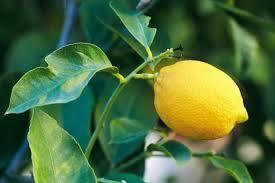lemon: (154, 60, 249, 140)
